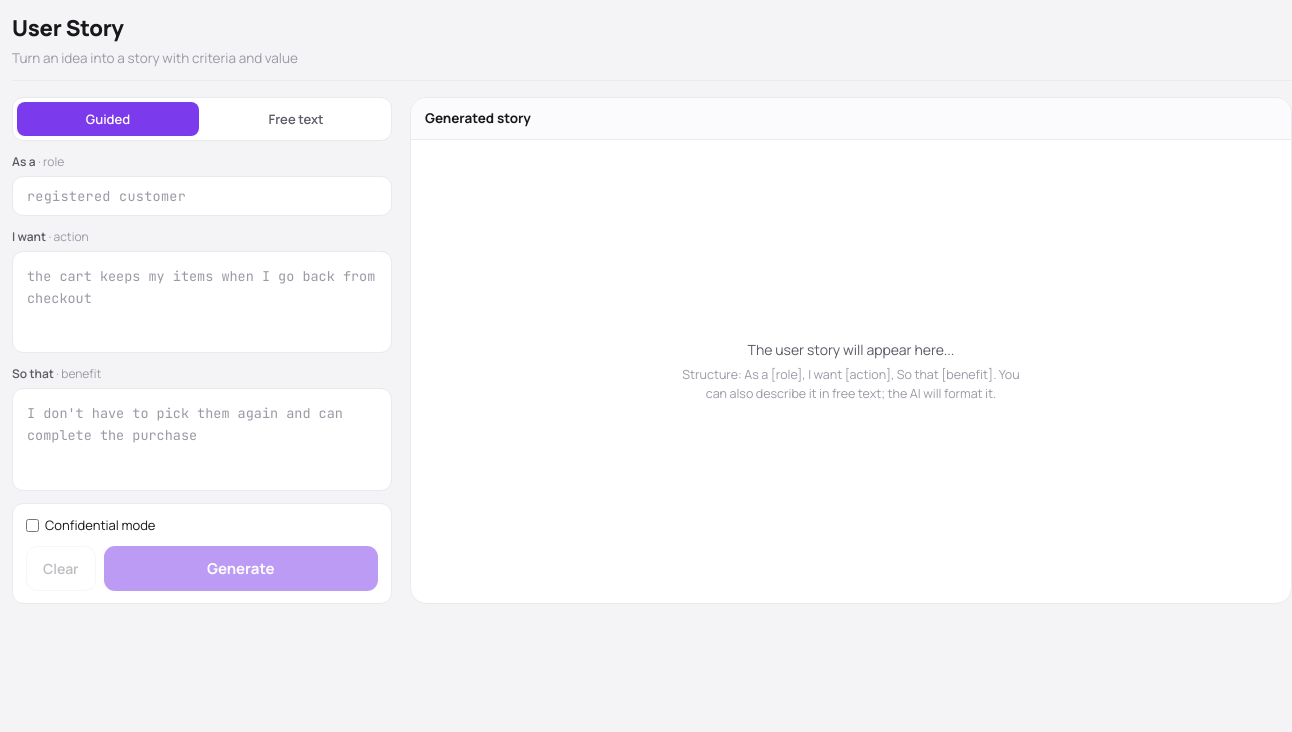
UserStoryTool input guidance › renders the persistent hint translated (en)
This screenshot has width=1292, height=732.
Click the tab "Free text": (296, 119) 205,102 -> 387,136
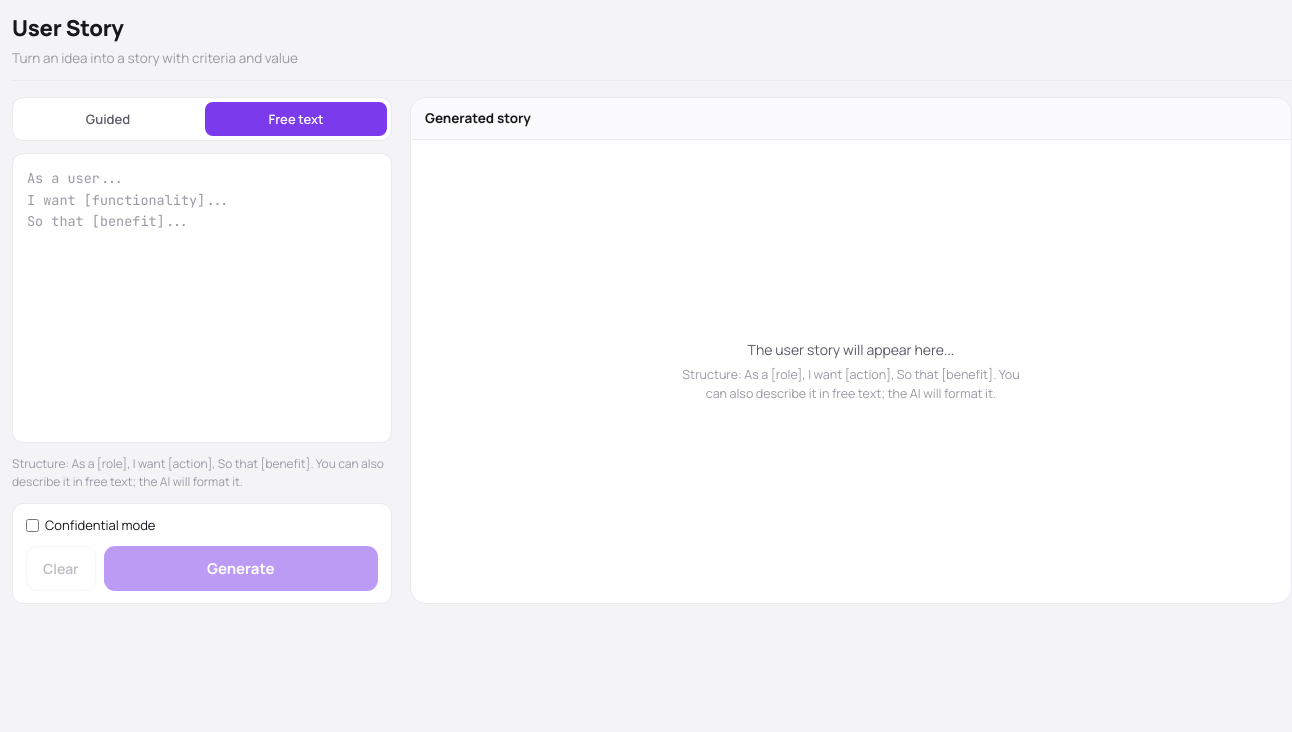
Now the 2nd text "You can also describe it in free text" is shown, box 12,454 -> 384,490
